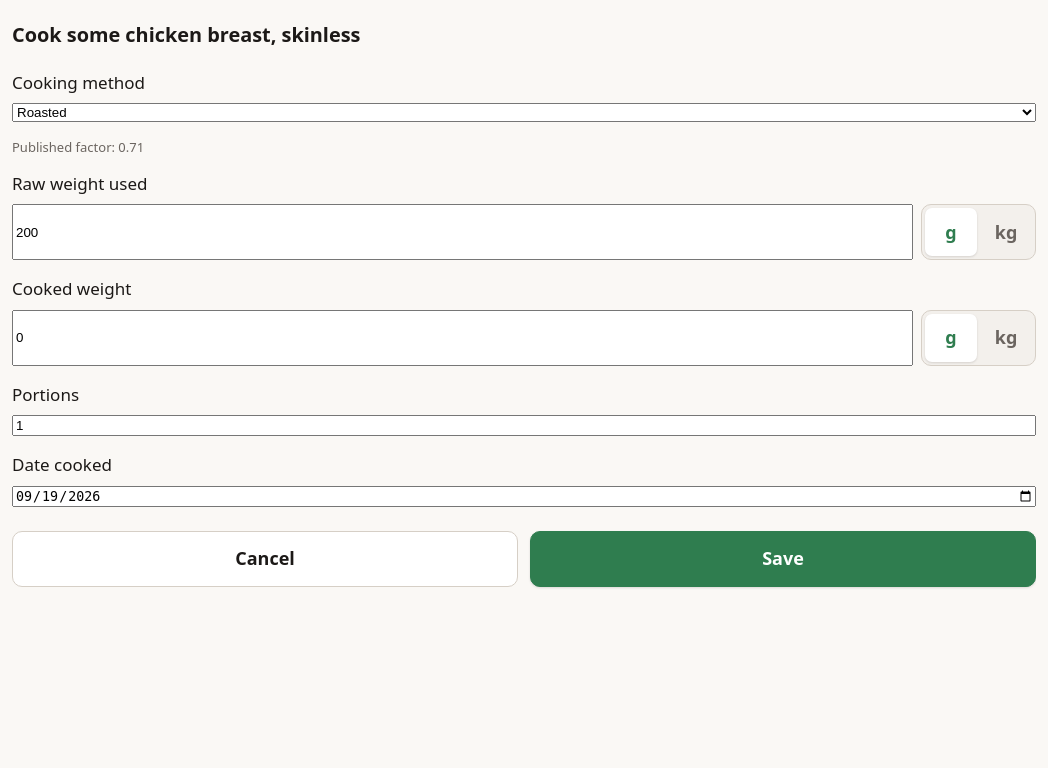
Test: CookSessionForm › blocks cooking more than is left and says how much that is
Replace the text in the number field labelled "Raw weight used" with "400" at x=462, y=232, box [12,204,913,260]
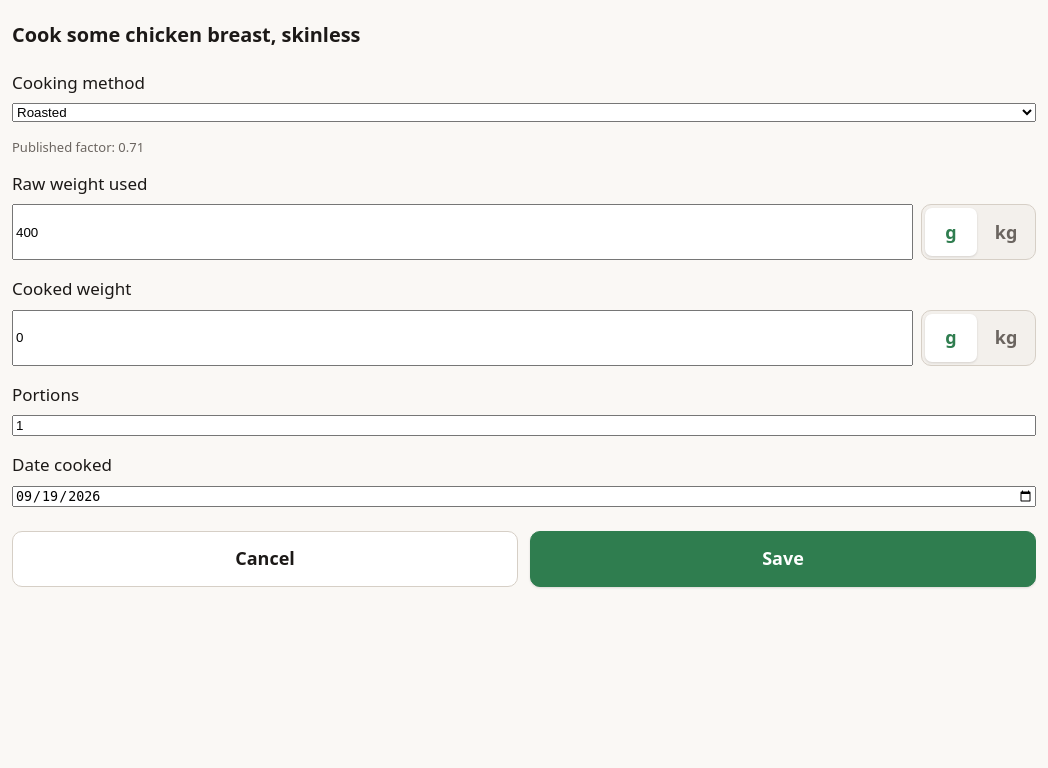
Replace the text in the number field labelled "Cooked weight" with "284" at x=462, y=338, box [12,310,913,366]
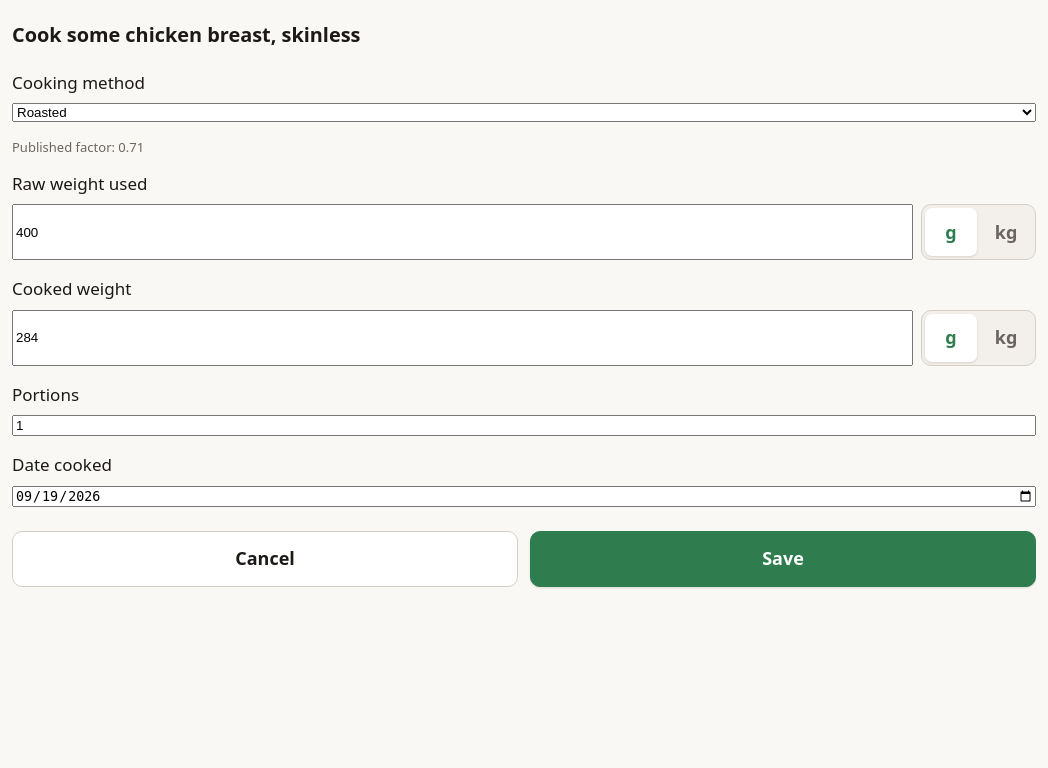
Click the button "Save" at x=783, y=559, box [530,531,1036,587]
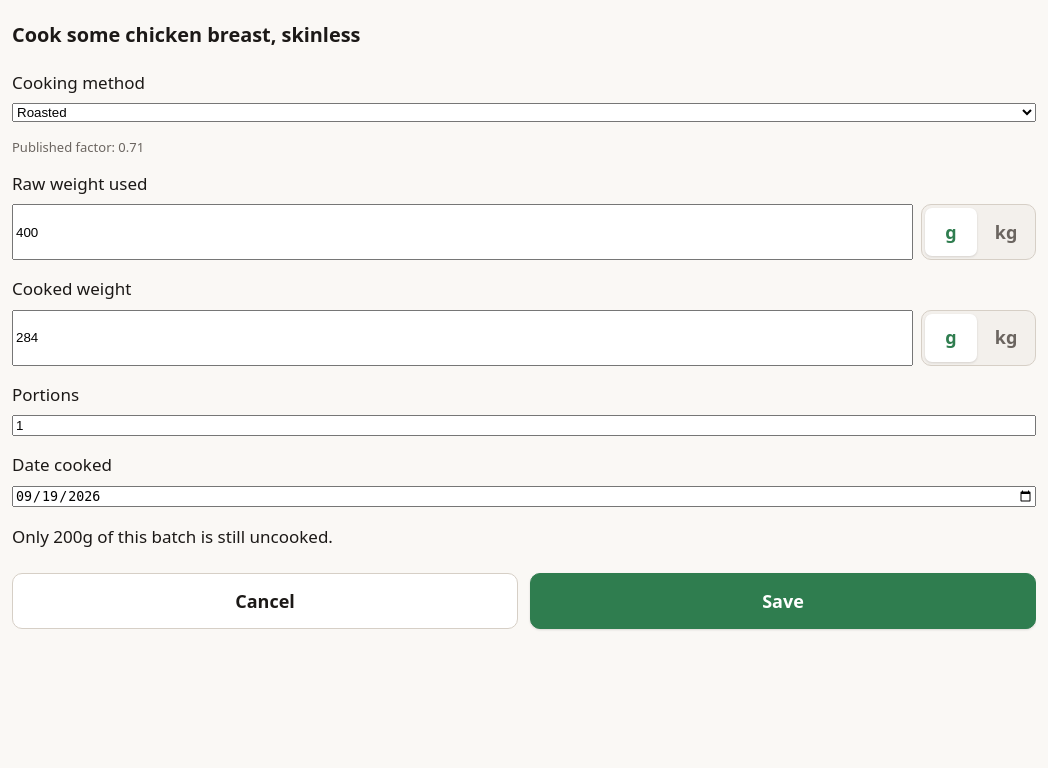
Expected: the message shows "200g", [12,525,333,548]
